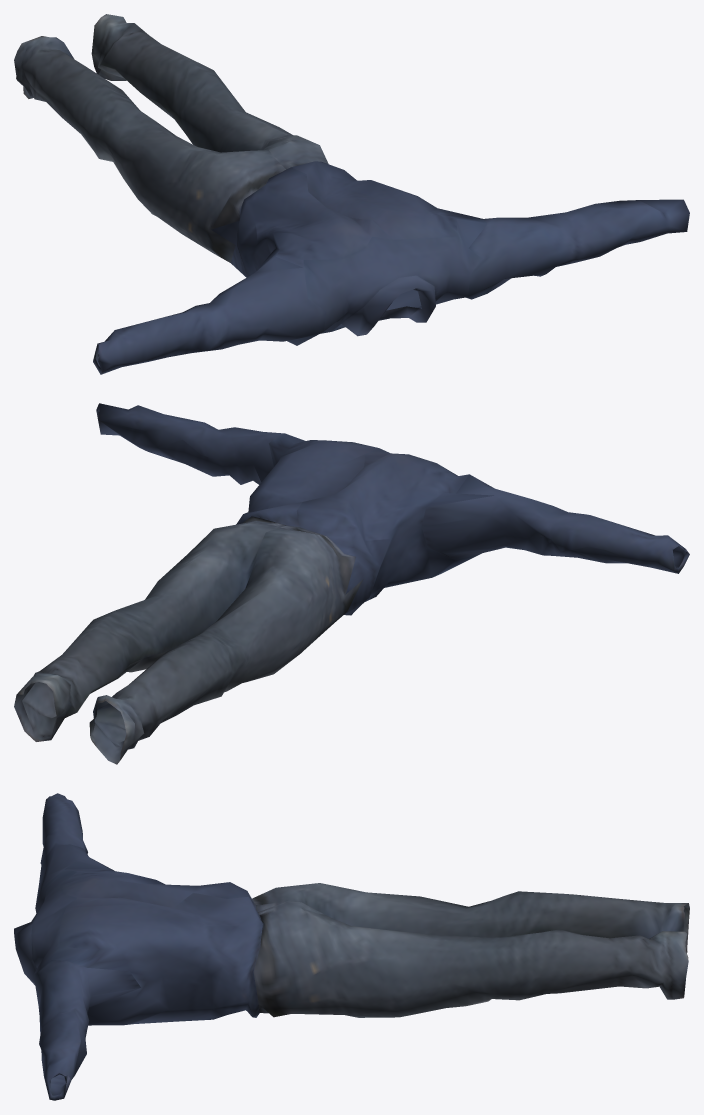
The model's file is clothes.obj.
The picture shows the model from 3 angles, top to bottom: view 1: azimuth 30°, elevation 25°; view 2: azimuth 150°, elevation 25°; view 3: azimuth 270°, elevation 25°; orthographic projection.
Parts seen in each view (by area): view 1: clothes; view 2: clothes; view 3: clothes.
Boxes of the visible parts, bbox=[...] form: clothes: bbox=[14, 14, 689, 374]; clothes: bbox=[14, 403, 689, 764]; clothes: bbox=[14, 793, 689, 1100].
Size of the model in its own units: 1.46 by 0.2772 by 1.46.
1 material, 1 textured.
